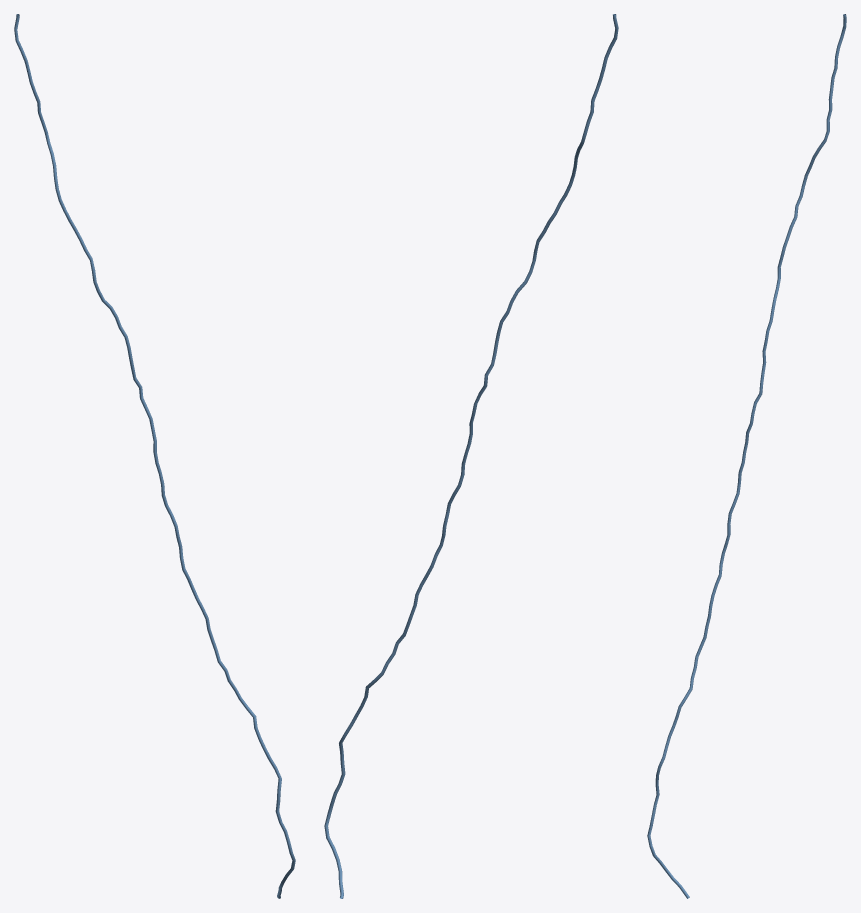
File: sweep284.fbx
3 renders of one model, left to right at view 1: azimuth 30°, elevation 25°; view 2: azimuth 210°, elevation 25°; view 3: azimuth 270°, elevation 25°, orthographic. The views are drawn at different scales.
Visible parts, largest first — view 1: sweep284; view 2: sweep284; view 3: sweep284.
Boxes of the visible parts, box(x1,y1,x2,y2) form: sweep284: box(14, 14, 295, 898); sweep284: box(324, 14, 618, 898); sweep284: box(647, 14, 846, 898).
Size of the model in its own units: 1.2 by 5.43 by 1.22.
